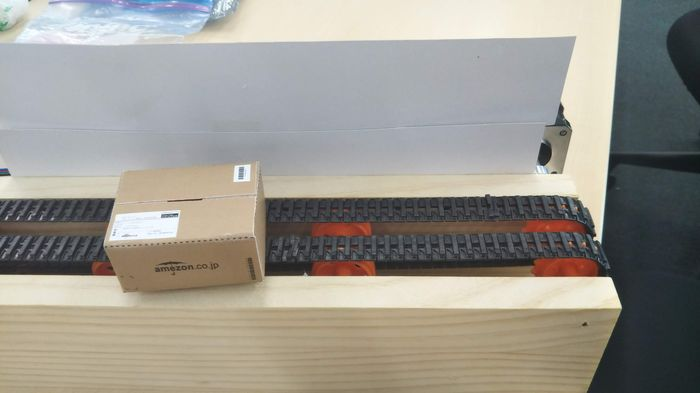box1: (99, 158, 268, 296)
